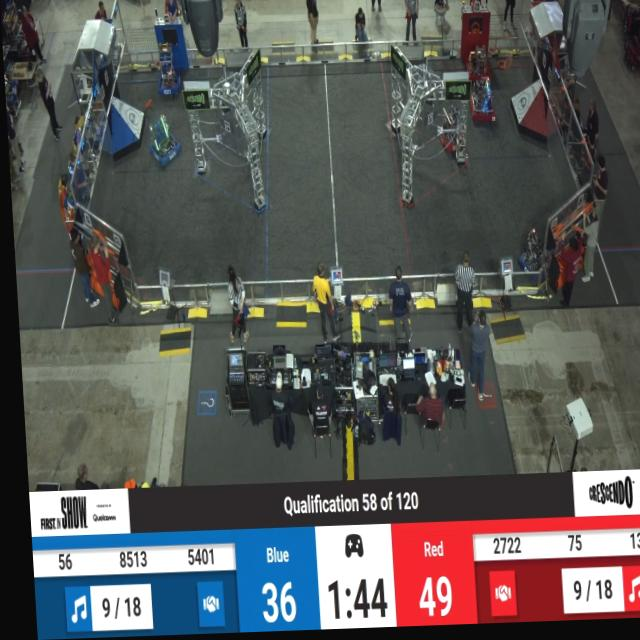Robot: (511, 225, 550, 289), (145, 115, 180, 171), (435, 104, 466, 161), (155, 41, 183, 102), (462, 43, 492, 92), (465, 79, 494, 129)
